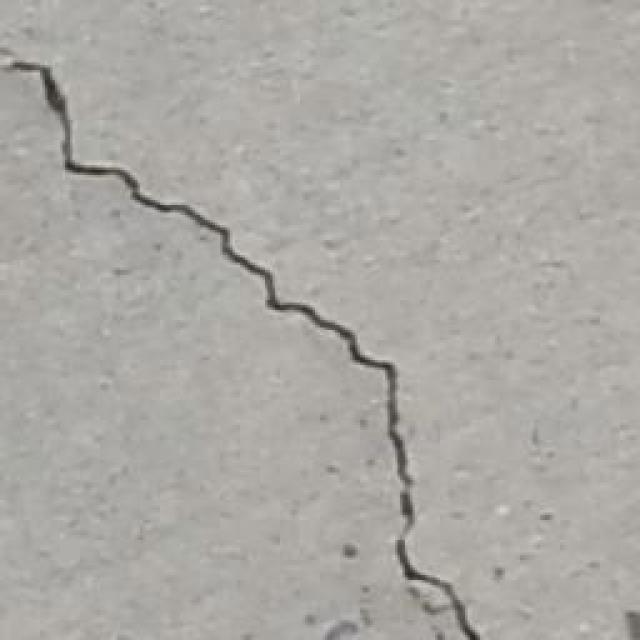concrete-crack: (0, 43, 488, 640)
